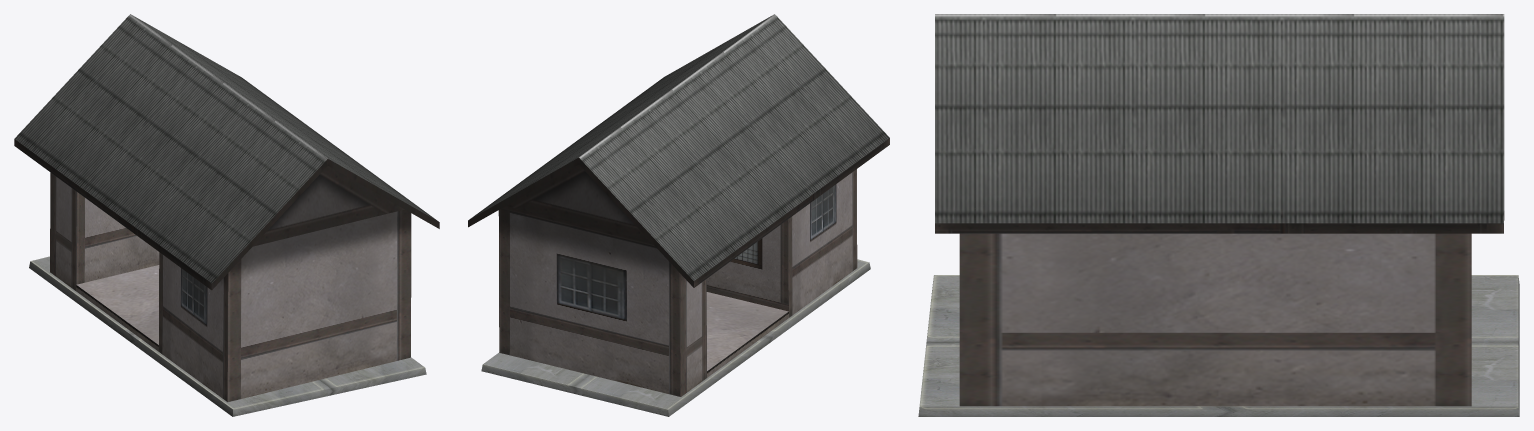
Rendered from shop2.FBX.
3 renders of one model, left to right at view 1: azimuth 30°, elevation 25°; view 2: azimuth 150°, elevation 25°; view 3: azimuth 270°, elevation 25°, orthographic. The views are drawn at different scales.
Parts seen in each view (by area): view 1: polySurface54; view 2: polySurface54; view 3: polySurface54.
Part boxes in pixels (x1,y1,x2,y2): polySurface54: [14, 14, 439, 416]; polySurface54: [468, 14, 889, 416]; polySurface54: [918, 14, 1519, 416].
Size of the model in its own units: 23.46 by 23.07 by 37.22.
Materials: 5 (5 with a texture image).
